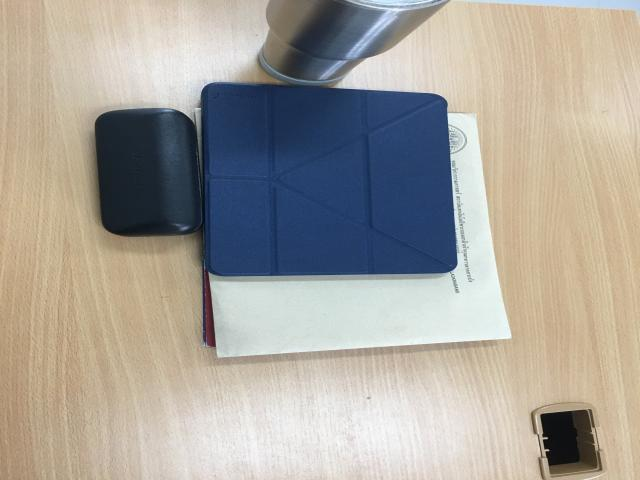Glasses: (92, 108, 204, 238)
bottle: (257, 0, 454, 88)
